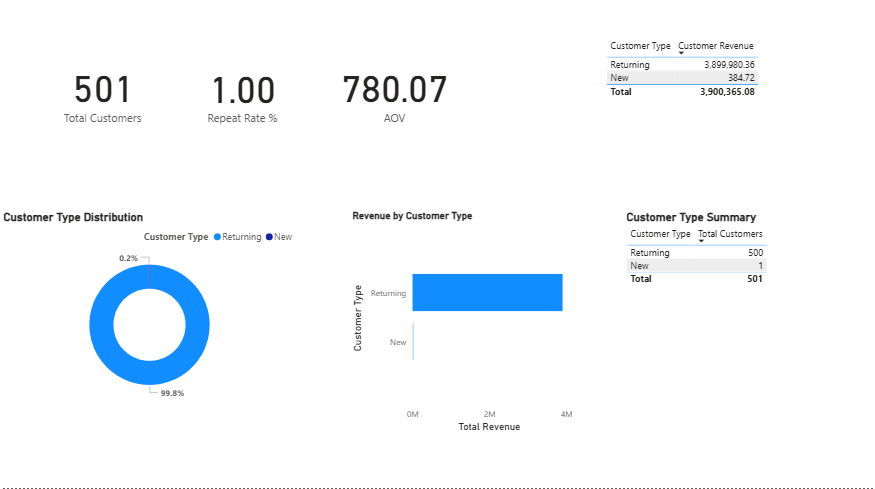

Layout of this report page (visuals, bound fields, positions):
{"tool":"powerbi","page":{"name":"Customer insights","canvas":[1280,720],"ordinal":1},"visuals":[{"type":"card","fields":{"Values":["Ecommerce_Sales_Dataset_PowerBI.Total Customers"]},"box":[10,0,280,280],"z":0},{"type":"card","fields":{"Values":["DateTable.Repeat Rate %"]},"box":[215.1,0,279.5,281],"z":1000},{"type":"card","fields":{"Values":["Ecommerce_Sales_Dataset_PowerBI.AOV"]},"box":[437.6,0,279.5,279.5],"z":2000},{"type":"donutChart","title":"Customer Type Distribution","fields":{"Y":["Ecommerce_Sales_Dataset_PowerBI.Total Customers"],"Category":["Ecommerce_Sales_Dataset_PowerBI.Customer Type"]},"box":[0,313.2,437.6,288.3],"z":3000},{"type":"tableEx","title":"Customer Type Summary","fields":{"Values":["Ecommerce_Sales_Dataset_PowerBI.Customer Type","Ecommerce_Sales_Dataset_PowerBI.Total Customers"]},"box":[911.7,313.2,368.8,218],"z":4000},{"type":"clusteredBarChart","title":"Revenue by Customer Type","fields":{"Category":["Ecommerce_Sales_Dataset_PowerBI.Customer Type"],"Y":["Ecommerce_Sales_Dataset_PowerBI.Total Revenue"]},"box":[510.7,313.2,332.2,329.3],"z":5000},{"type":"tableEx","fields":{"Values":["Ecommerce_Sales_Dataset_PowerBI.Customer Type","Ecommerce_Sales_Dataset_PowerBI.Customer Revenue"]},"box":[882.4,57.1,383.4,184.4],"z":6000}]}

Visuals, with their boxes in screenshot pixels (x1, y1, x2, y2), scaled from the page's 1280x720 canvas onto the 875x489 screenshot:
card - Ecommerce_Sales_Dataset_PowerBI.Total Customers: l=7, t=0, r=198, b=190
card - DateTable.Repeat Rate %: l=147, t=0, r=338, b=191
card - Ecommerce_Sales_Dataset_PowerBI.AOV: l=299, t=0, r=490, b=190
"Customer Type Distribution" donutChart: l=0, t=213, r=299, b=409
"Customer Type Summary" tableEx: l=623, t=213, r=874, b=361
"Revenue by Customer Type" clusteredBarChart: l=349, t=213, r=576, b=436
tableEx - Ecommerce_Sales_Dataset_PowerBI.Customer Type x Ecommerce_Sales_Dataset_PowerBI.Customer Revenue: l=603, t=39, r=865, b=164
